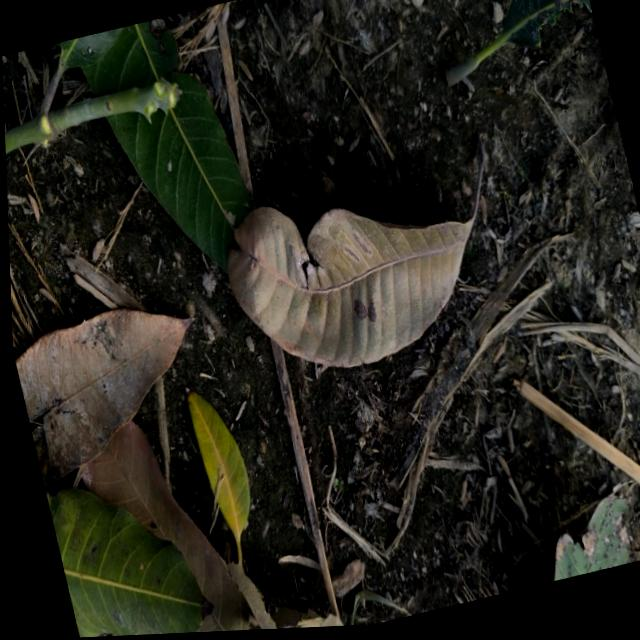black die: (351, 294, 378, 329)
